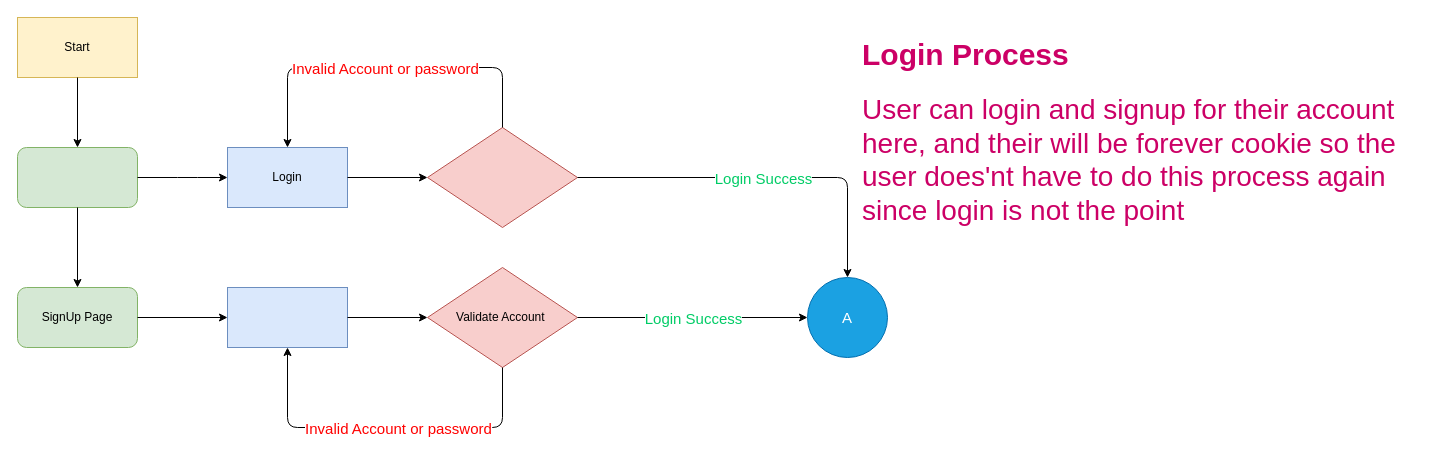
Some shapes in this 1435 by 454 pixel diagram are drawn without their labels. The centre of each missing label's shape, as x and y in pixels:
Account Registration: the point at 287,317
Login Page: the point at 77,177
Validate Account and Password: the point at 502,177
